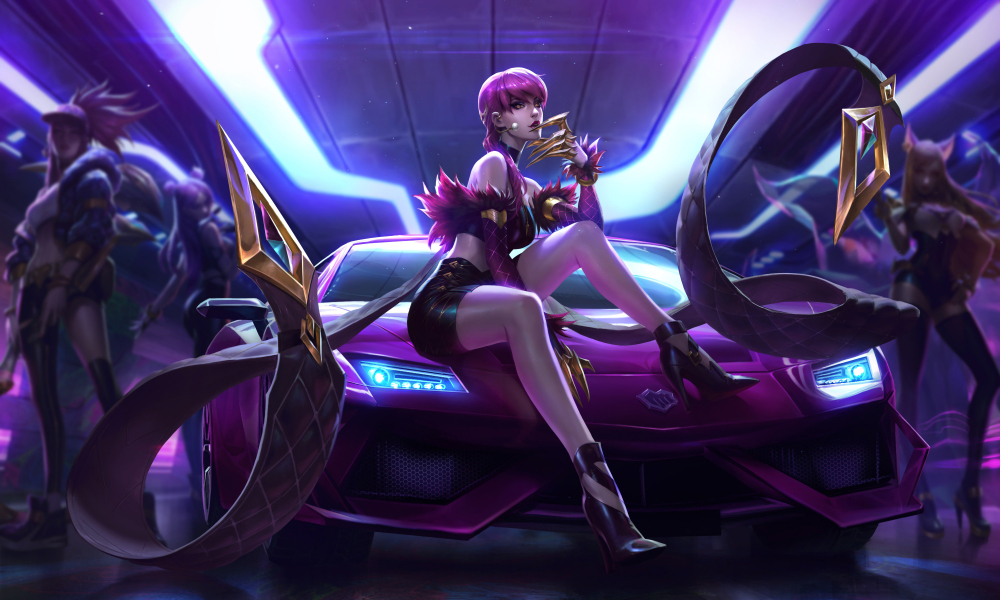face: (466, 58, 566, 154)
